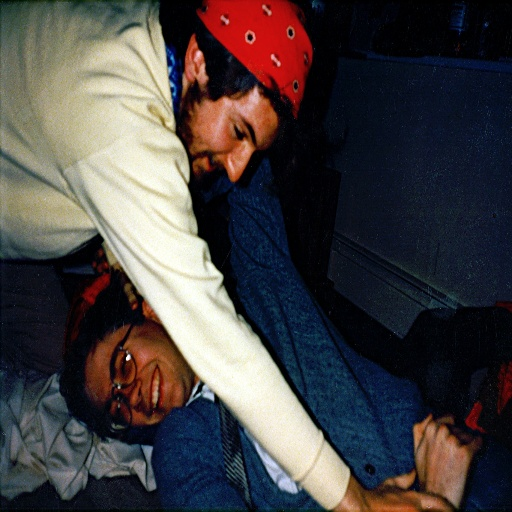hand: (418, 421, 482, 491), (357, 466, 451, 511)
